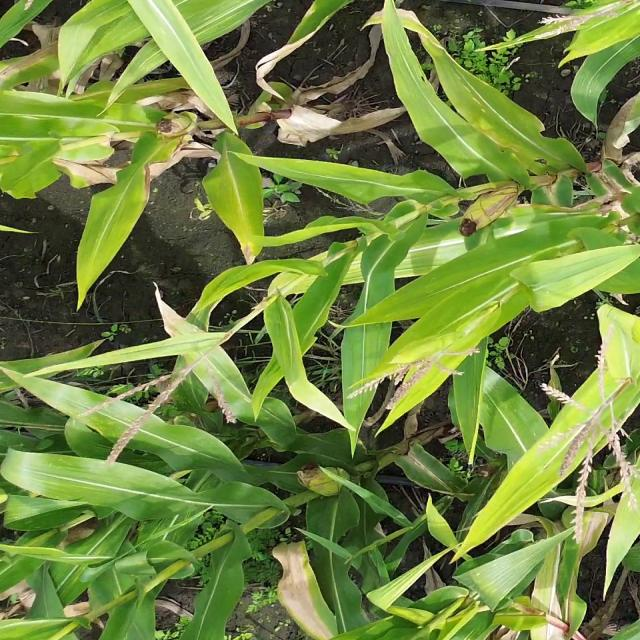gray-leaf-spot: (430, 51, 518, 131)
northern-leaf-blight: (105, 128, 198, 212)
southern-leaf-blight: (7, 456, 105, 543)
